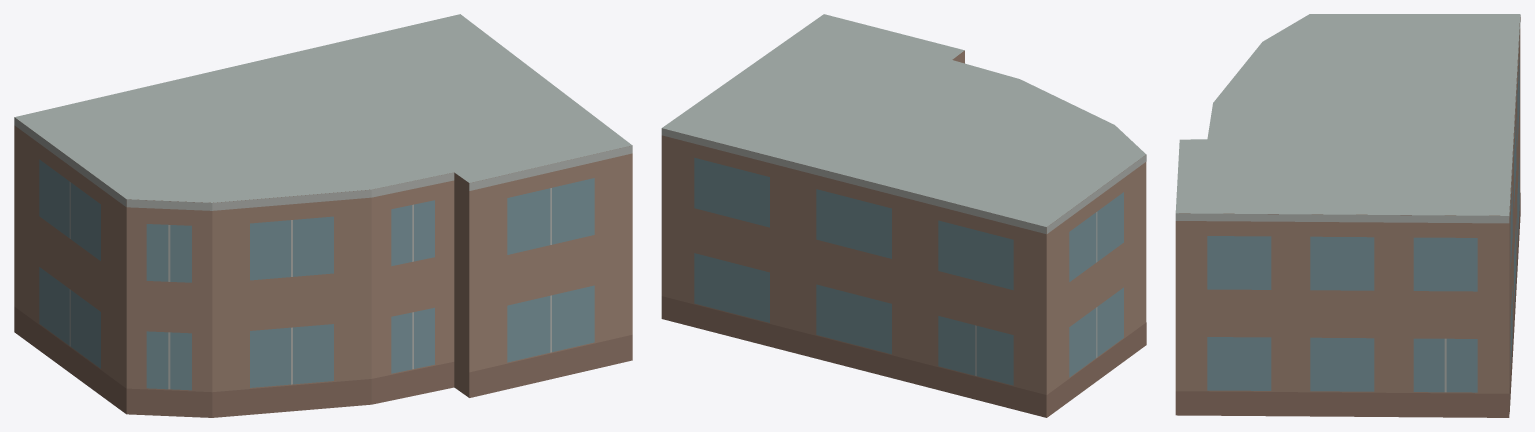
The model's file is survey-upis-32719040.glb.
3 views of the same model, side by side, from view 1: azimuth 30°, elevation 25°; view 2: azimuth 150°, elevation 25°; view 3: azimuth 270°, elevation 25° (orthographic). The views are drawn at different scales.
Parts seen in each view (by area): view 1: survey-upis-32719040.tmp; view 2: survey-upis-32719040.tmp; view 3: survey-upis-32719040.tmp.
Part boxes in pixels (x1,y1,x2,y2): survey-upis-32719040.tmp: (14,14,632,417); survey-upis-32719040.tmp: (661,14,1146,417); survey-upis-32719040.tmp: (1175,14,1520,417).
Bounding box in the file's own units: 13.94 × 6.5 × 10.06.
